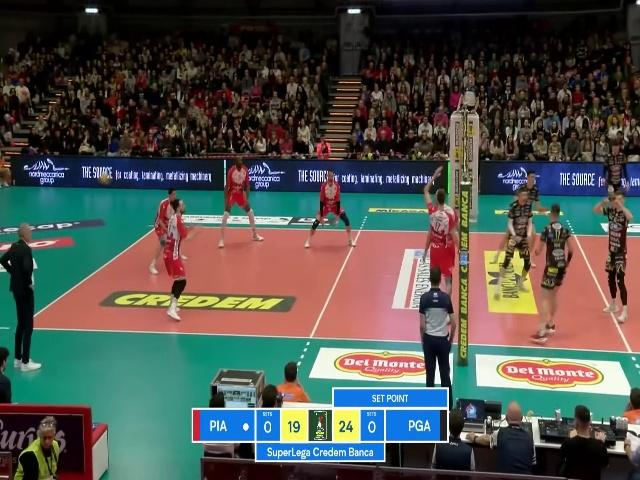volleyball court: (14, 222, 639, 352)
